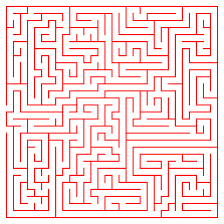maze: (5, 6, 217, 218)
